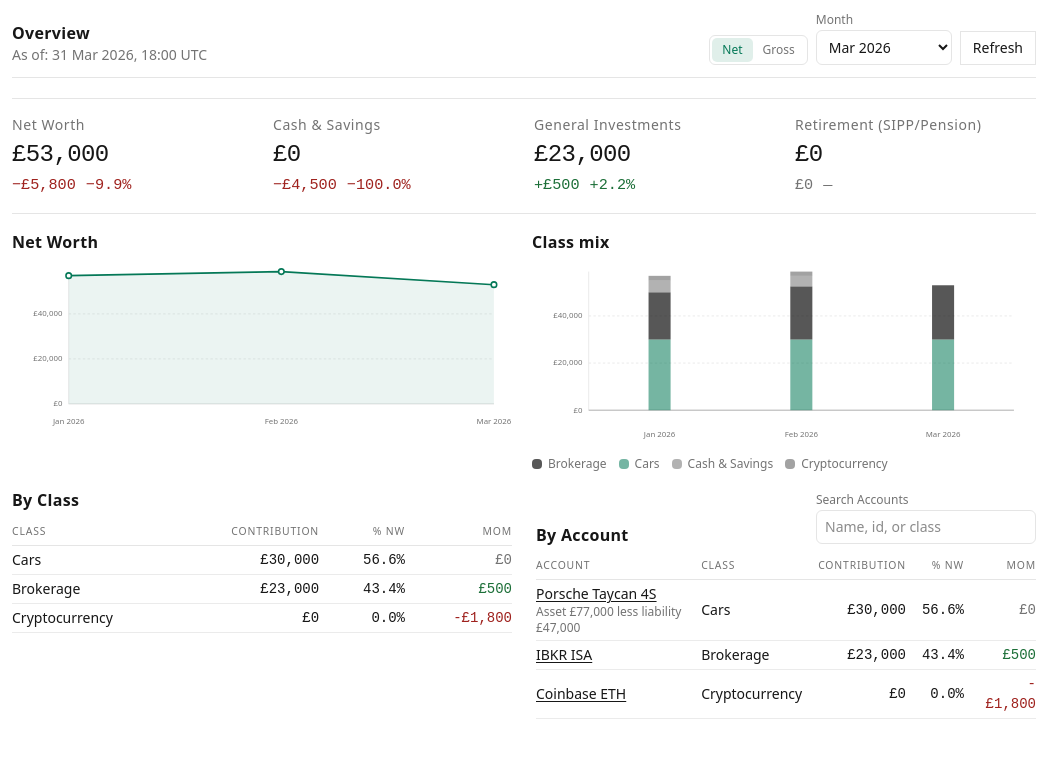
Test case: WmwOverview › surfaces empty-tab Refresh failures distinctly from generic Sheets errors
The image size is (1048, 780).
Expected: the link "Porsche Taycan 4S" is shown, [536,584,657,603]
What coordinates should you click on to do the following:
click the button "Refresh"
I would click on:
 (998, 48)
Its box is [960,31,1036,65].
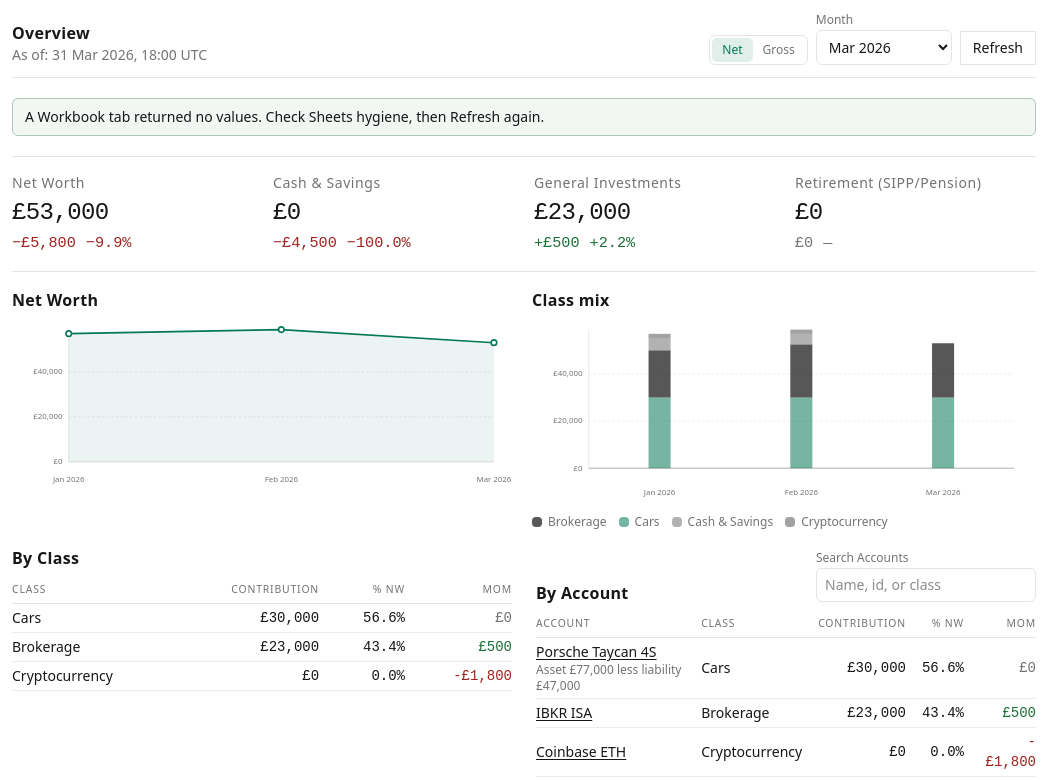
Expected: the link "Porsche Taycan 4S" is shown, [536,642,657,661]
Result: the message reads "A Workbook tab returned no values. Check Sheets hygiene, then Refresh again." at [25,107,544,126]
